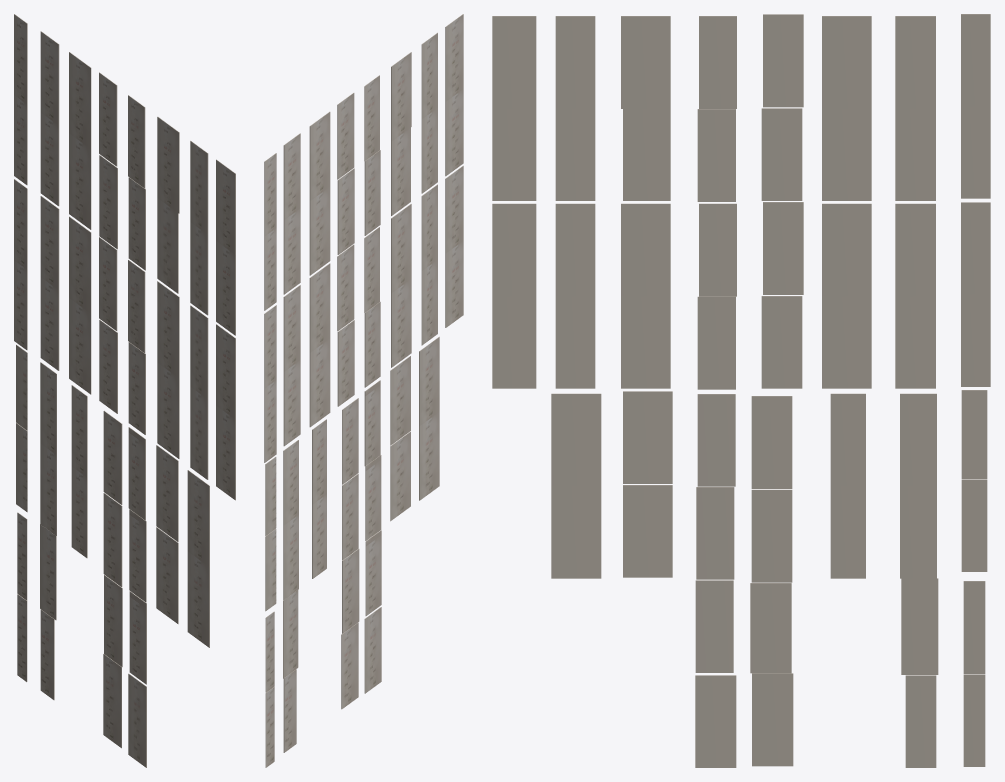
3 views of the same model, side by side, from view 1: azimuth 30°, elevation 25°; view 2: azimuth 150°, elevation 25°; view 3: azimuth 270°, elevation 25° (orthographic). The views are drawn at different scales.
Visible parts, largest first — view 1: Plane009; view 2: Plane009; view 3: Plane009.
Part boxes in pixels (x1=…): Plane009: x1=14, y1=14, x2=235, y2=767; Plane009: x1=264, y1=14, x2=463, y2=767; Plane009: x1=492, y1=14, x2=990, y2=767.
Bounding box in the file's own units: 0.5288 × 97.47 × 58.44.
Materials: 1 (1 with a texture image).
